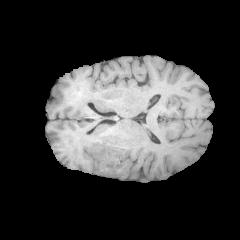glioma: (89, 139, 134, 177)
